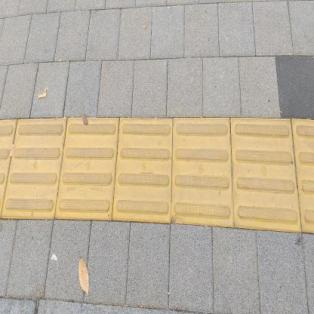Podoctatil: (0, 111, 313, 238)
